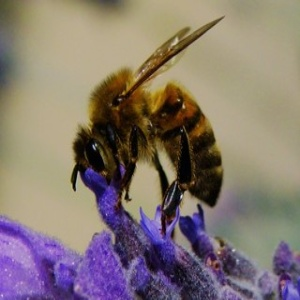bee: (70, 15, 243, 238)
